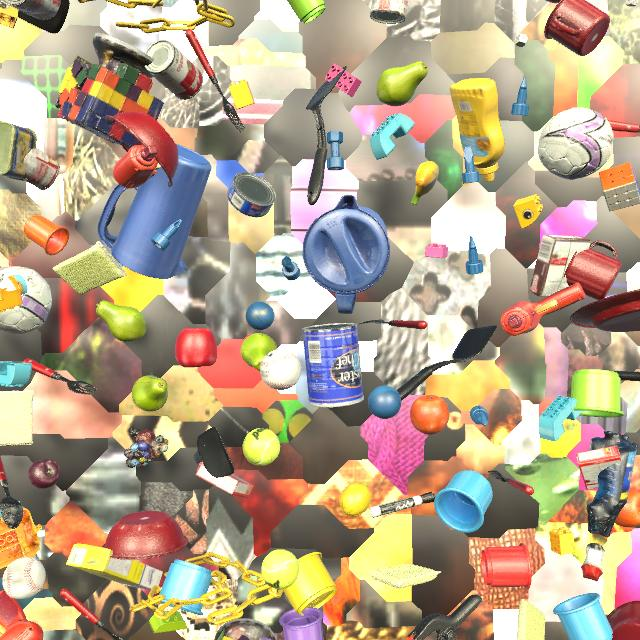ycb_002_master_chef_can: (302, 323, 364, 408)
ycb_004_sugar_box: (66, 544, 163, 590)
ycb_005_tomato_soup_can: (145, 39, 203, 100), (24, 148, 60, 190), (0, 0, 60, 20), (370, 0, 408, 24)
ycb_006_mustard_bottle: (450, 78, 505, 182)
ycb_007_tuna_fish_can: (227, 172, 276, 217)
ycb_008_pudding_box: (529, 235, 591, 297)
ycb_009_gelatin_box: (196, 462, 254, 498), (576, 445, 621, 490)
ycb_010_potted_meat_can: (0, 121, 37, 181)
ycb_011_banana: (411, 161, 439, 205), (0, 518, 1, 522)
ycb_013_apple: (175, 328, 217, 368), (546, 0, 560, 3)
ycb_014_lemon: (339, 483, 372, 517)
ycb_016_pear: (377, 61, 428, 107), (96, 300, 146, 342), (240, 333, 277, 371), (132, 375, 168, 412)
ycb_017_orange: (410, 395, 449, 435), (615, 488, 640, 528)
ycb_018_plum: (28, 459, 61, 489)
